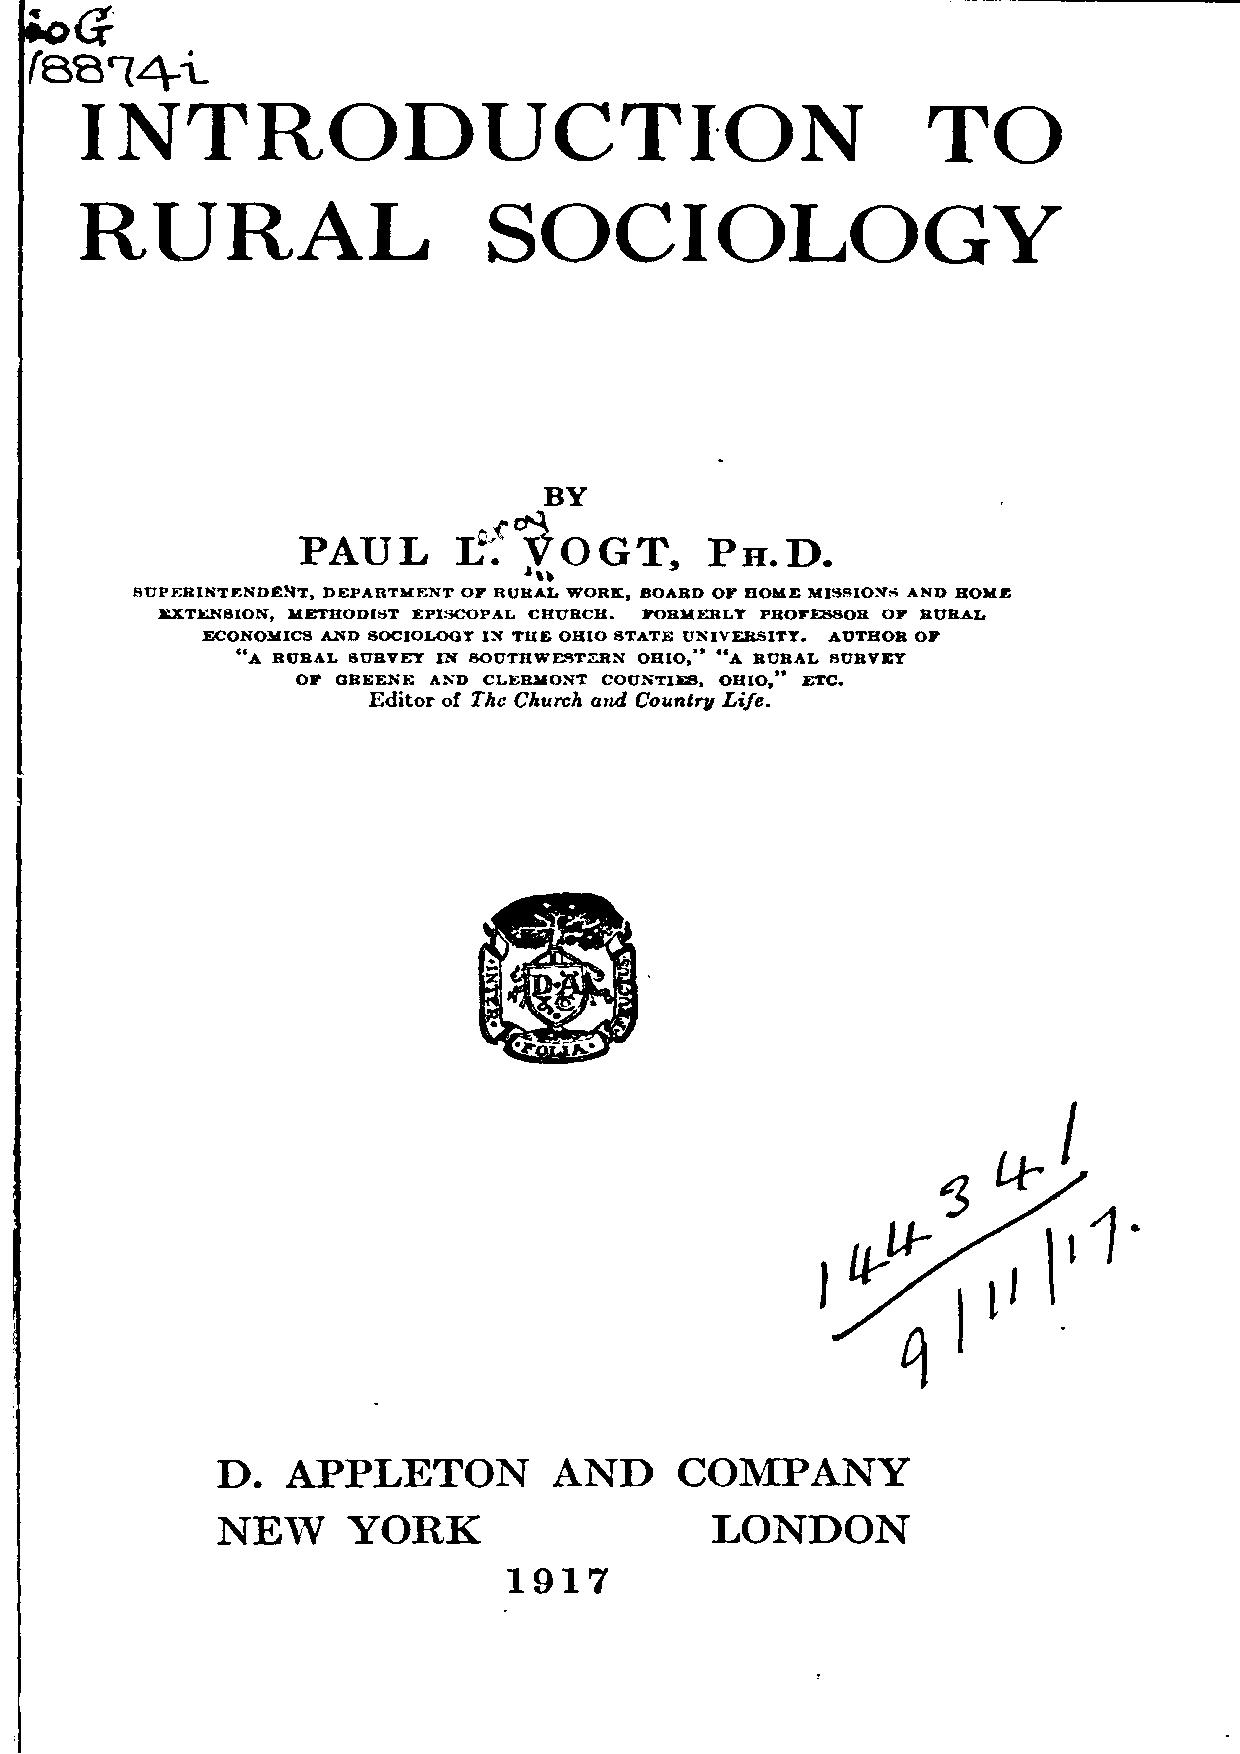author: (293, 483, 833, 570)
title: (72, 97, 1066, 266)
